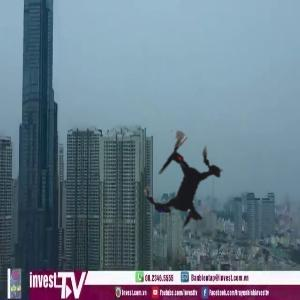drone: (110, 111, 256, 257)
